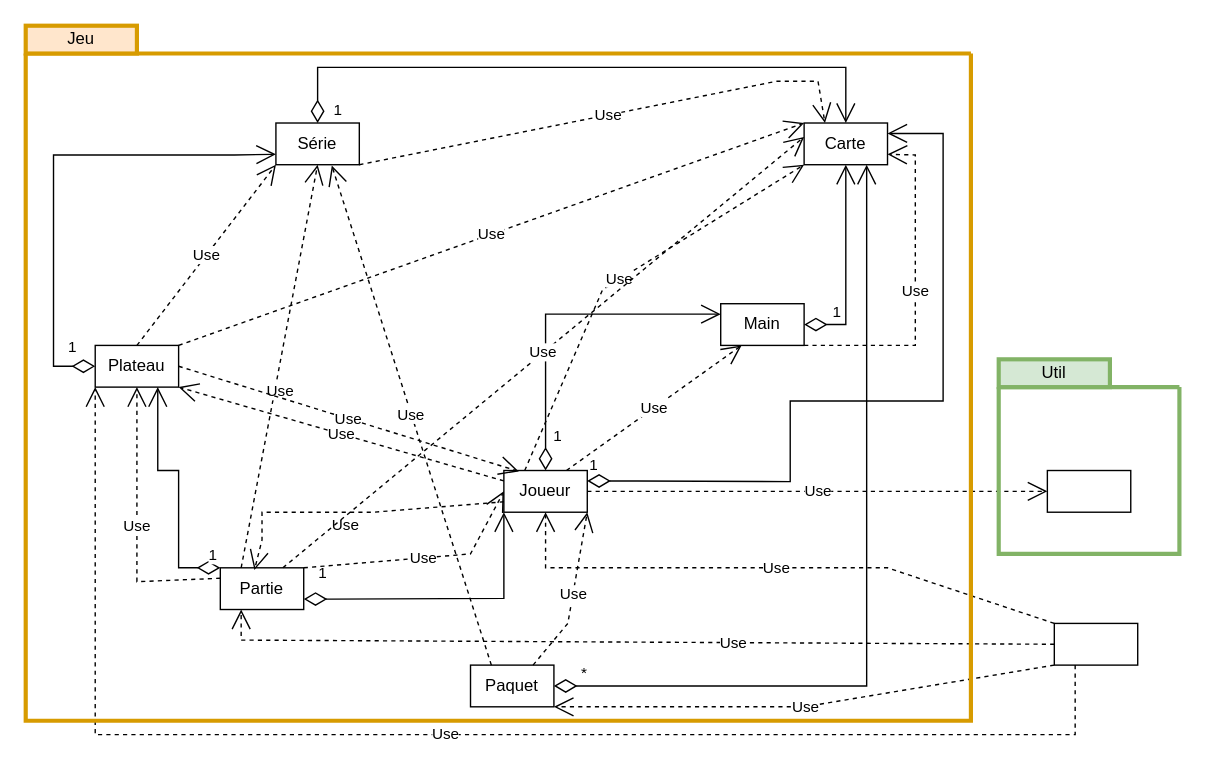
The diagram is 1205 pixels wide and 778 high, and some of its shapes have lost their labels. Each missing label, with the centre of its shape:
"Appli" belongs at point (1095, 643).
"Console" belongs at point (1088, 490).
